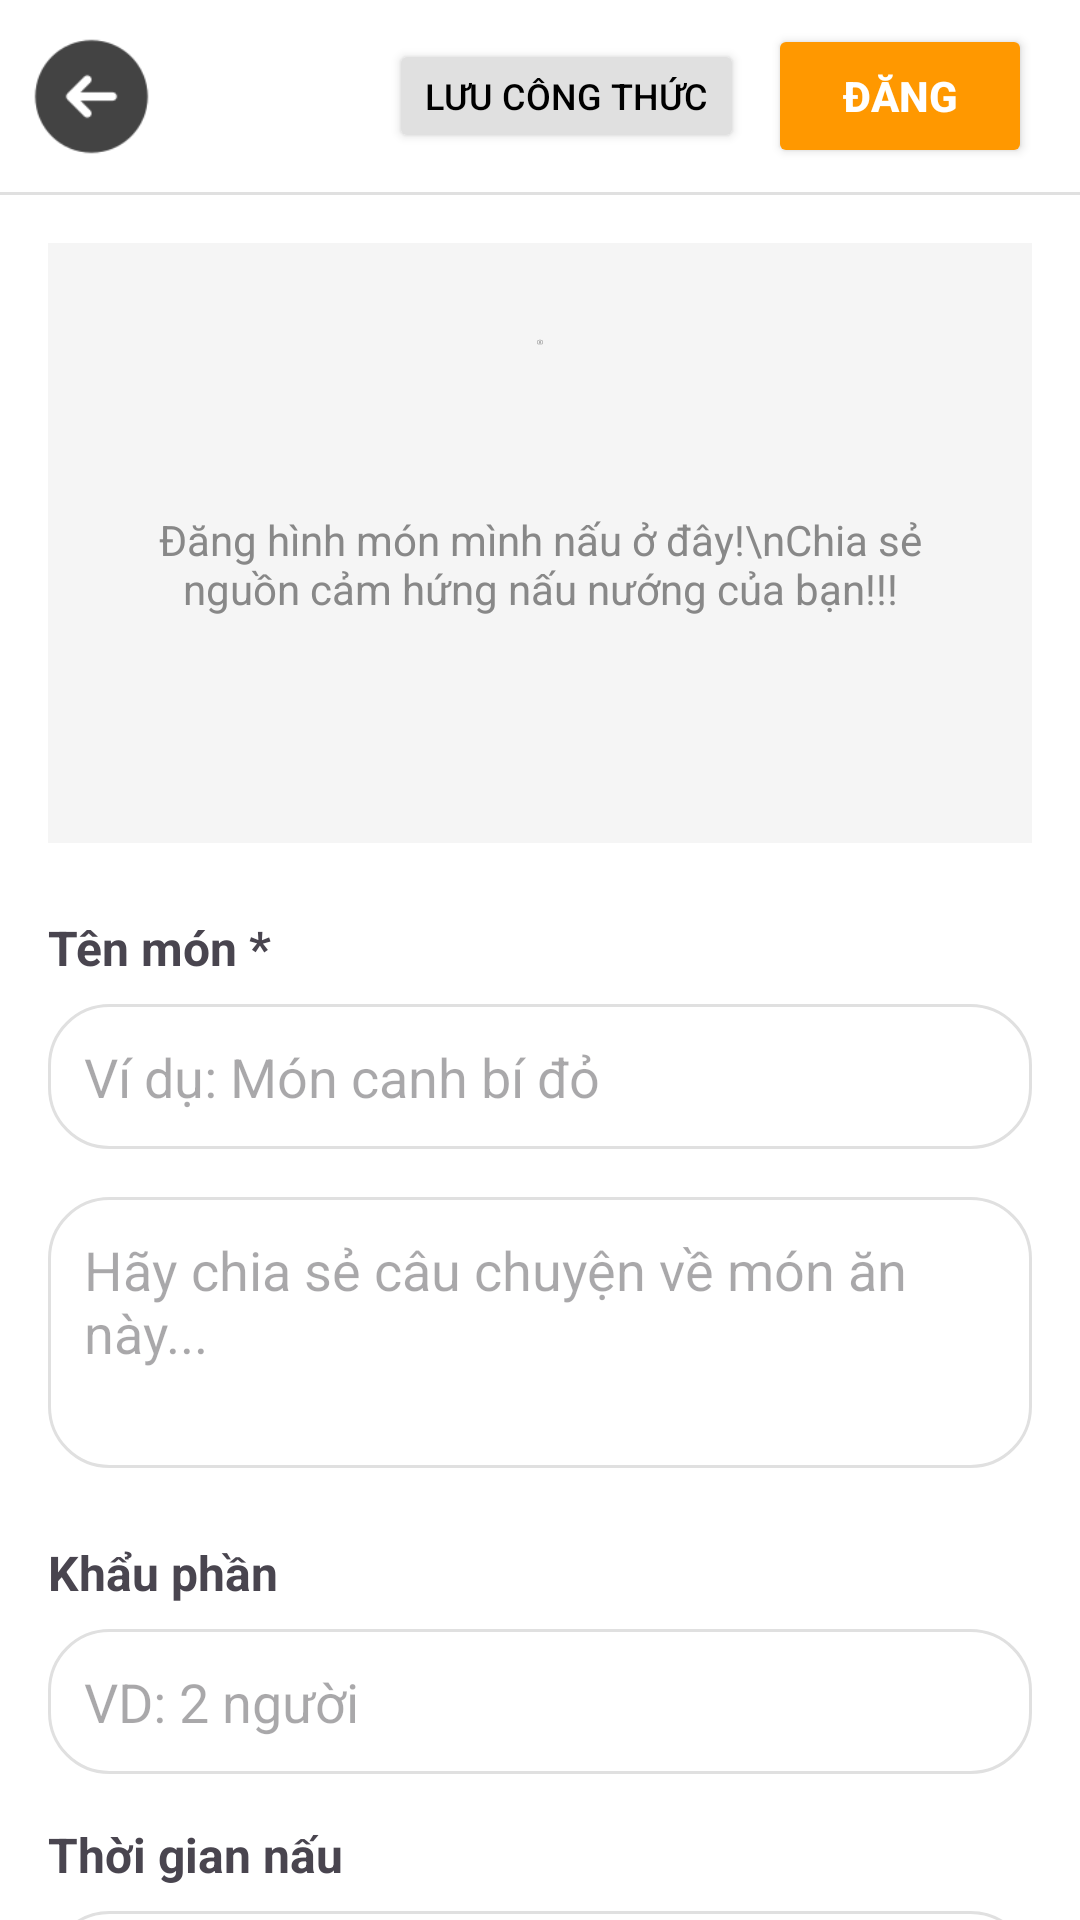

Where to tap for icons on this 1080px x 1920px app screen, as point (x, y):
Back: point (91, 96)
